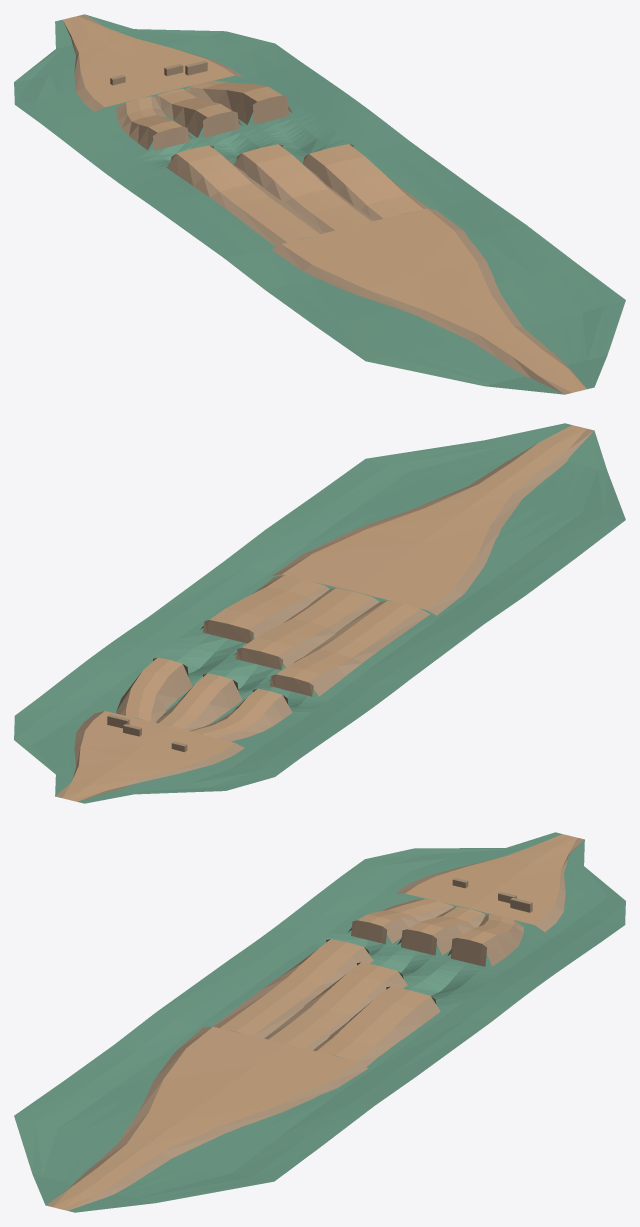
File: WG_GapJumpThreeLine.glb
3 views of the same model, one above another, from view 1: azimuth 30°, elevation 25°; view 2: azimuth 150°, elevation 25°; view 3: azimuth 330°, elevation 25° (orthographic).
Parts seen in each view (by area): view 1: GEO_GapJumpGround_LOD0, GEO_GapJumpTread_LOD0, GEO_GapJumpAccents_LOD0; view 2: GEO_GapJumpGround_LOD0, GEO_GapJumpTread_LOD0, GEO_GapJumpAccents_LOD0; view 3: GEO_GapJumpGround_LOD0, GEO_GapJumpTread_LOD0, GEO_GapJumpAccents_LOD0.
Boxes of the visible parts, bbox=[...] form: GEO_GapJumpGround_LOD0: bbox=[14, 14, 625, 394]; GEO_GapJumpTread_LOD0: bbox=[63, 14, 586, 394]; GEO_GapJumpAccents_LOD0: bbox=[110, 60, 353, 161]; GEO_GapJumpGround_LOD0: bbox=[14, 423, 625, 803]; GEO_GapJumpTread_LOD0: bbox=[55, 425, 594, 801]; GEO_GapJumpAccents_LOD0: bbox=[107, 620, 313, 752]; GEO_GapJumpGround_LOD0: bbox=[14, 832, 625, 1212]; GEO_GapJumpTread_LOD0: bbox=[46, 834, 584, 1210]; GEO_GapJumpAccents_LOD0: bbox=[326, 877, 532, 1003].
Bounding box in the file's own units: 12 × 1.42 × 40.7.
